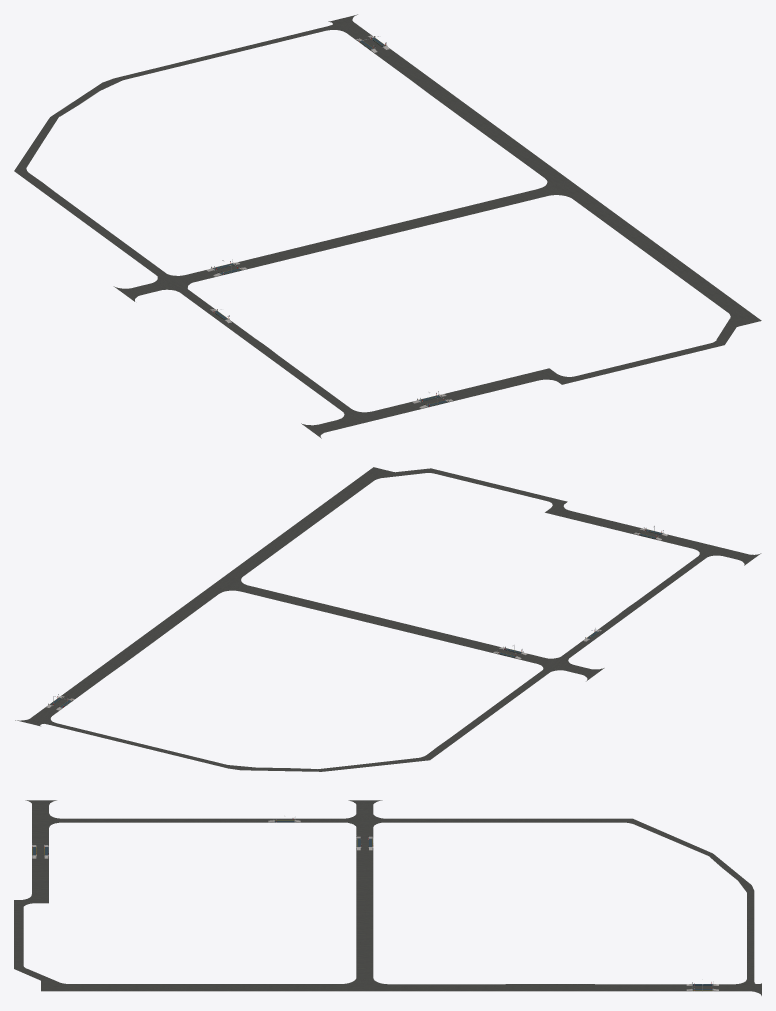
The picture shows the model from 3 angles, top to bottom: view 1: azimuth 30°, elevation 25°; view 2: azimuth 150°, elevation 25°; view 3: azimuth 270°, elevation 25°; orthographic projection. The views are drawn at different scales.
Visible parts, largest first — view 1: 对象1000; view 2: 对象1000; view 3: 对象1000.
Part boxes in pixels (box(x1,y1,x2,y2)): 对象1000: box(14, 14, 761, 438); 对象1000: box(15, 467, 761, 771); 对象1000: box(14, 800, 761, 995).
Bounding box in the file's own units: 369 × 5.43 × 593.
10 materials, 8 textured.
